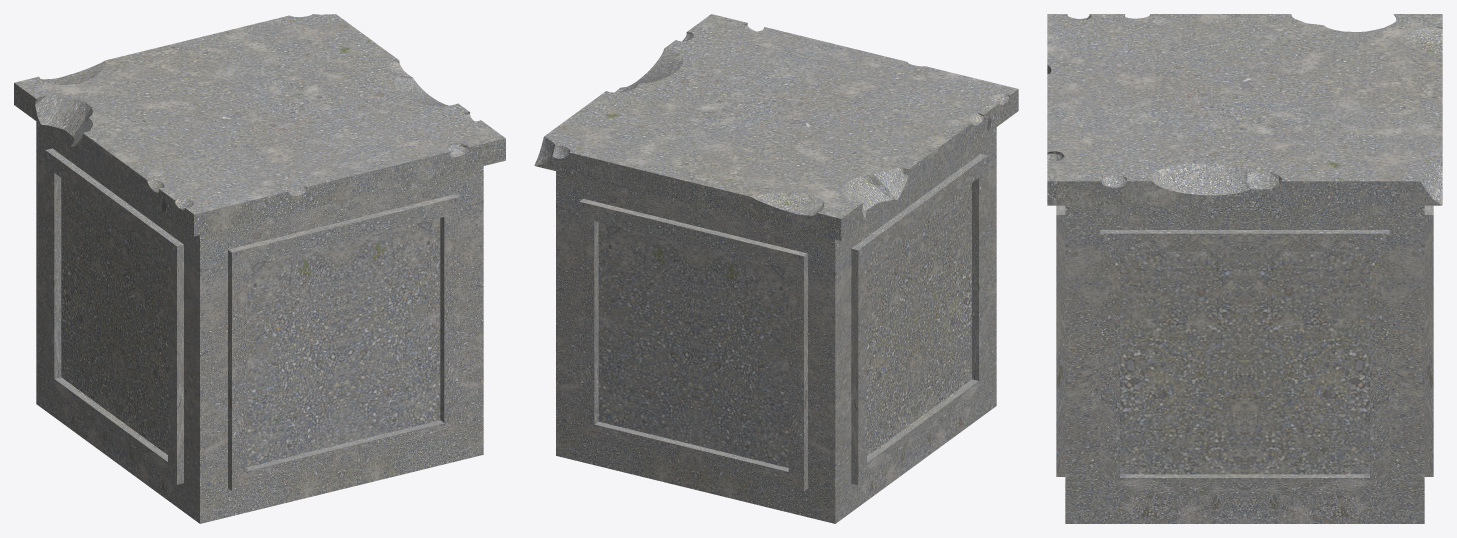
Rendered from StonePedestal.fbx.
3 renders of one model, left to right at view 1: azimuth 30°, elevation 25°; view 2: azimuth 150°, elevation 25°; view 3: azimuth 270°, elevation 25°, orthographic. The views are drawn at different scales.
Parts seen in each view (by area): view 1: StonePedestal; view 2: StonePedestal; view 3: StonePedestal.
Boxes of the visible parts, left/top/right/bottom form: StonePedestal: left=14, top=14, right=505, bottom=523; StonePedestal: left=534, top=14, right=1018, bottom=523; StonePedestal: left=1047, top=14, right=1442, bottom=523.
Size of the model in its own units: 1.1 by 1.07 by 1.1.
1 material, 1 textured.
